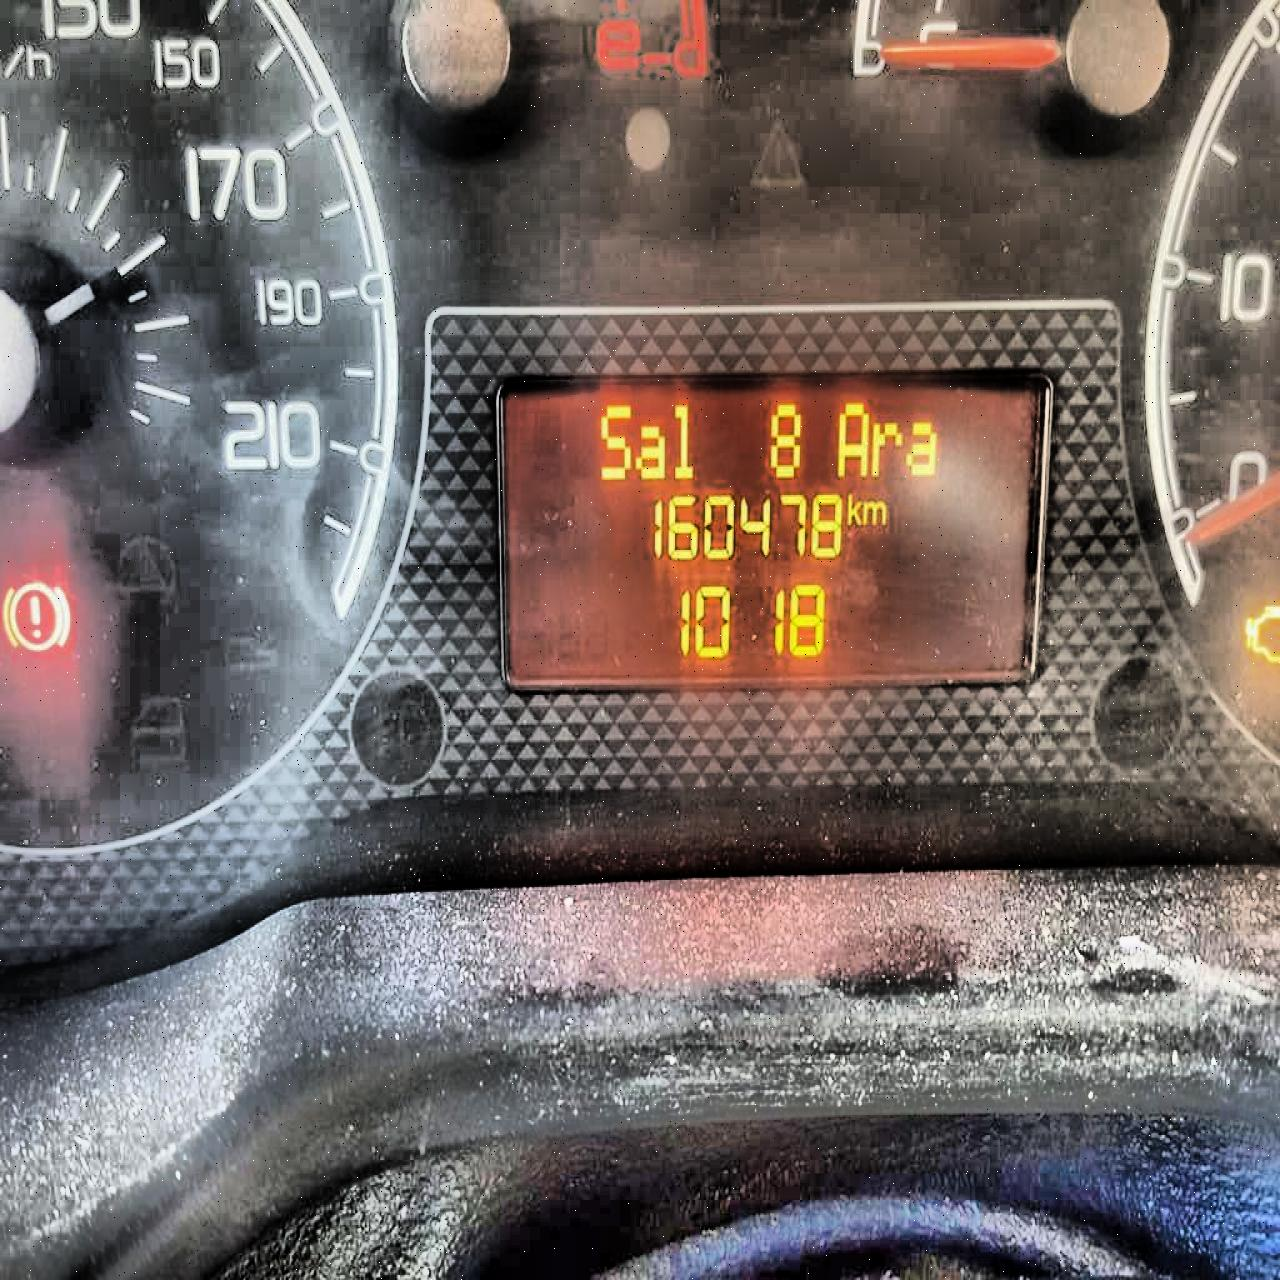0: (693, 581, 731, 659), (700, 490, 736, 560)
1: (674, 585, 692, 659), (769, 584, 785, 656), (647, 495, 662, 560)
4: (737, 493, 774, 558)
6: (663, 491, 699, 561)
7: (776, 489, 806, 558)
8: (787, 580, 826, 659), (767, 399, 804, 479), (808, 490, 843, 558)
X: (595, 396, 633, 482), (832, 396, 870, 478), (903, 418, 941, 478), (670, 399, 695, 482), (870, 418, 903, 479), (633, 422, 667, 481), (863, 497, 886, 525), (845, 490, 862, 525)
odometer: (481, 359, 1061, 704)
